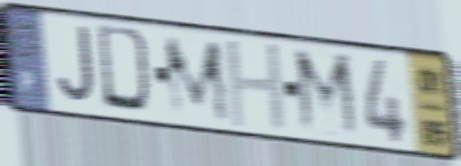4: (361, 56, 410, 146)
D: (95, 21, 158, 120)
H: (222, 38, 291, 133)
J: (55, 23, 99, 108)
M: (291, 44, 364, 143), (160, 35, 234, 124)
